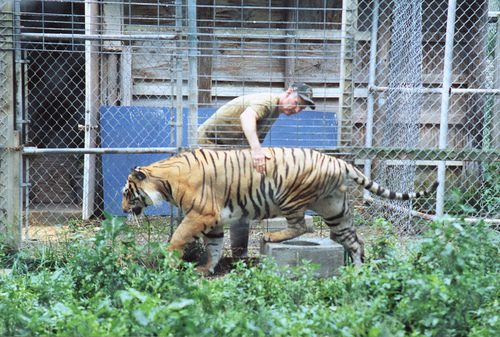Tigre: (124, 144, 421, 272)
